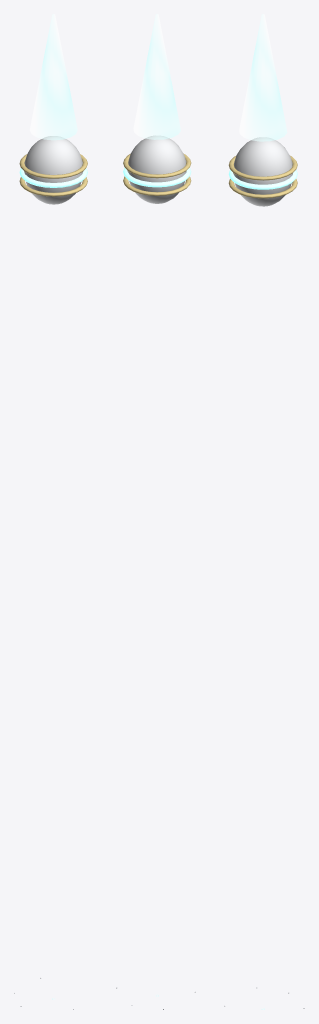
File: capsula-stellar.glb
3 views of the same model, side by side, from view 1: azimuth 90°, elevation 25°; view 2: azimuth 150°, elevation 25°; view 3: azimuth 330°, elevation 25° (orthographic).
Parts seen in each view (by area): view 1: Capsule_Trail, Capsule_Hull, Capsule_CyanBand, Capsule_Ring_0, Capsule_Ring_1; view 2: Capsule_Trail, Capsule_Hull, Capsule_CyanBand, Capsule_Ring_0, Capsule_Ring_1; view 3: Capsule_Trail, Capsule_Hull, Capsule_CyanBand, Capsule_Ring_0, Capsule_Ring_1.
Boxes of the visible parts, <box> form: Capsule_Trail: <box>30,14,77,140</box>; Capsule_Hull: <box>24,136,83,204</box>; Capsule_CyanBand: <box>19,168,87,187</box>; Capsule_Ring_0: <box>19,154,87,178</box>; Capsule_Ring_1: <box>19,177,87,196</box>; Capsule_Trail: <box>133,14,180,139</box>; Capsule_Hull: <box>127,135,186,203</box>; Capsule_CyanBand: <box>123,167,191,187</box>; Capsule_Ring_0: <box>123,153,191,178</box>; Capsule_Ring_1: <box>123,176,191,195</box>; Capsule_Trail: <box>239,14,287,141</box>; Capsule_Hull: <box>233,137,292,206</box>; Capsule_CyanBand: <box>228,170,297,189</box>; Capsule_Ring_0: <box>228,155,297,180</box>; Capsule_Ring_1: <box>228,179,297,198</box>.
Size of the model in its own units: 1.13 by 16.61 by 1.13.
